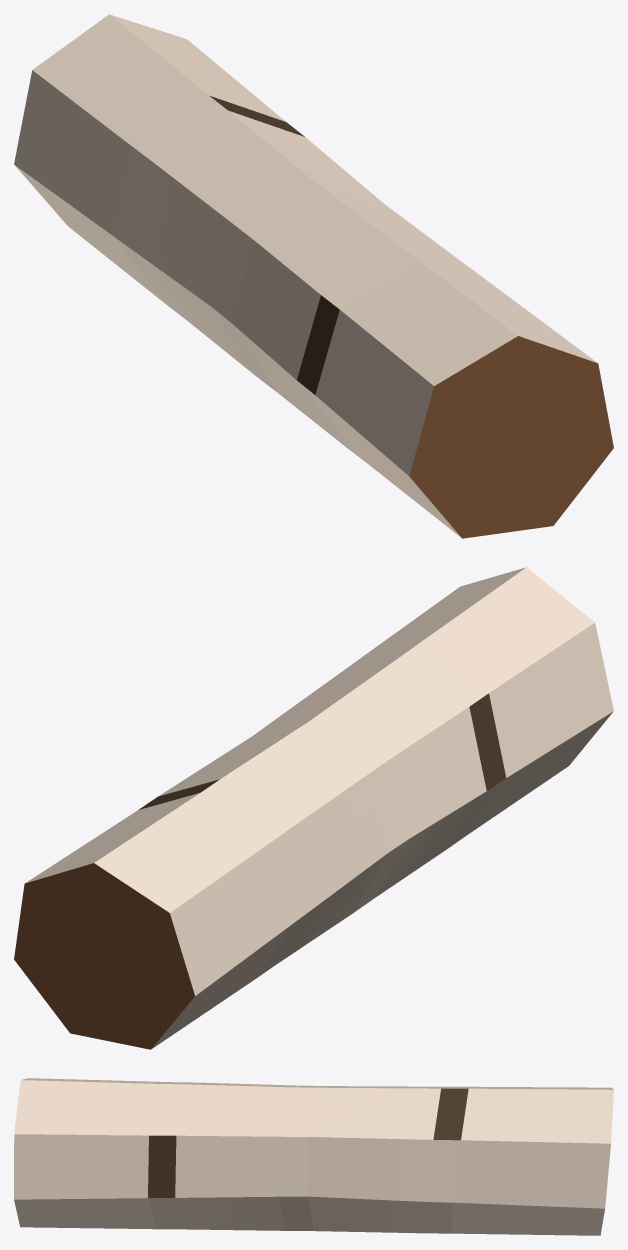
Rendered from nature_log-birch.fbx.
3 views of the same model, one above another, from view 1: azimuth 30°, elevation 25°; view 2: azimuth 150°, elevation 25°; view 3: azimuth 270°, elevation 25° (orthographic). The views are drawn at different scales.
Parts seen in each view (by area): view 1: nature_log_birch; view 2: nature_log_birch; view 3: nature_log_birch.
Part boxes in pixels (left/top/right/bottom): nature_log_birch: left=14, top=14, right=613, bottom=538; nature_log_birch: left=14, top=567, right=613, bottom=1049; nature_log_birch: left=14, top=1078, right=613, bottom=1235.
Bounding box in the file's own units: 57.1 × 49.93 × 200.
